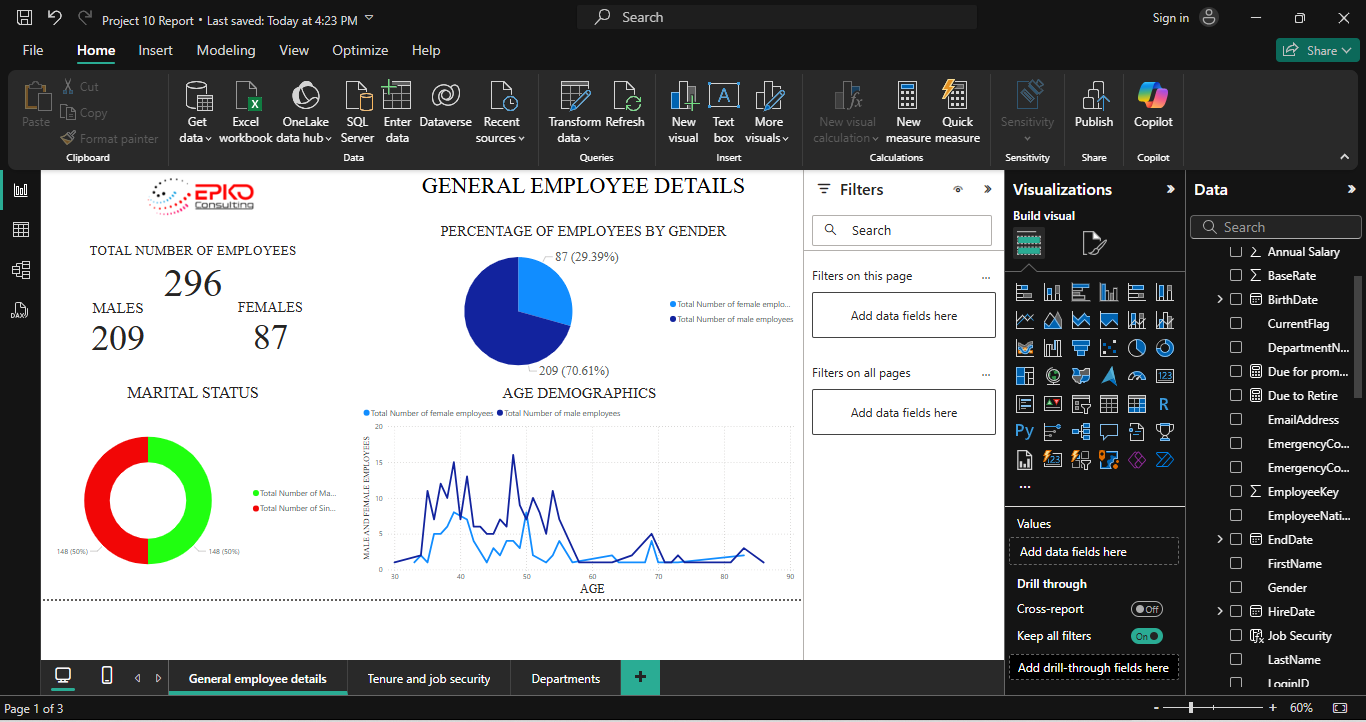

What the dashboard file says about the page in this screenshot:
{"tool":"powerbi","page":{"name":"General employee details","canvas":[1280,720],"ordinal":0},"visuals":[{"type":"card","title":"TOTAL NUMBER OF EMPLOYEES","fields":{"Values":["DimEmployee.Total Number of Employees"]},"box":[0,122.6,510.7,94.1],"z":0},{"type":"card","title":"FEMALES","fields":{"Values":["DimEmployee.Total Number of female employees"]},"box":[260.4,216.7,250.3,90.7],"z":1000},{"type":"card","title":"MALES","fields":{"Values":["DimEmployee.Total Number of male employees"]},"box":[3.4,216.7,252,90.7],"z":2000},{"type":"pieChart","title":"PERCENTAGE OF EMPLOYEES BY GENDER","fields":{"Y":["DimEmployee.Total Number of female employees","DimEmployee.Total Number of male employees"]},"box":[542.6,89,737.4,270.4],"z":3000},{"type":"donutChart","title":"MARITAL STATUS","fields":{"Y":["DimEmployee.Total Number of Married Employees","DimEmployee.Total Number of Single Employees"]},"box":[0,359.5,510.7,361.2],"z":4000},{"type":"image","box":[3.4,0,532.5,89],"z":5000},{"type":"textbox","box":[542.6,0,737.4,89],"z":6000},{"type":"lineChart","title":"AGE DEMOGRAPHICS","fields":{"Y":["DimEmployee.Total Number of female employees","DimEmployee.Total Number of male employees"],"Category":["DimEmployee.Age"]},"box":[535.9,359.5,737.4,361.2],"z":7000}]}

Visuals, with their boxes on the page's 1280x720 design canvas (x1, y1, x2, y2). These are canvas units, not pixel positions in the 1366x722 screenshot, which may show the page scaled, cropped or inside an application window:
"TOTAL NUMBER OF EMPLOYEES" card: BBox(0, 123, 511, 217)
"FEMALES" card: BBox(260, 217, 511, 307)
"MALES" card: BBox(3, 217, 255, 307)
"PERCENTAGE OF EMPLOYEES BY GENDER" pieChart: BBox(543, 89, 1280, 359)
"MARITAL STATUS" donutChart: BBox(0, 360, 511, 721)
image: BBox(3, 0, 536, 89)
textbox: BBox(543, 0, 1280, 89)
"AGE DEMOGRAPHICS" lineChart: BBox(536, 360, 1273, 721)
